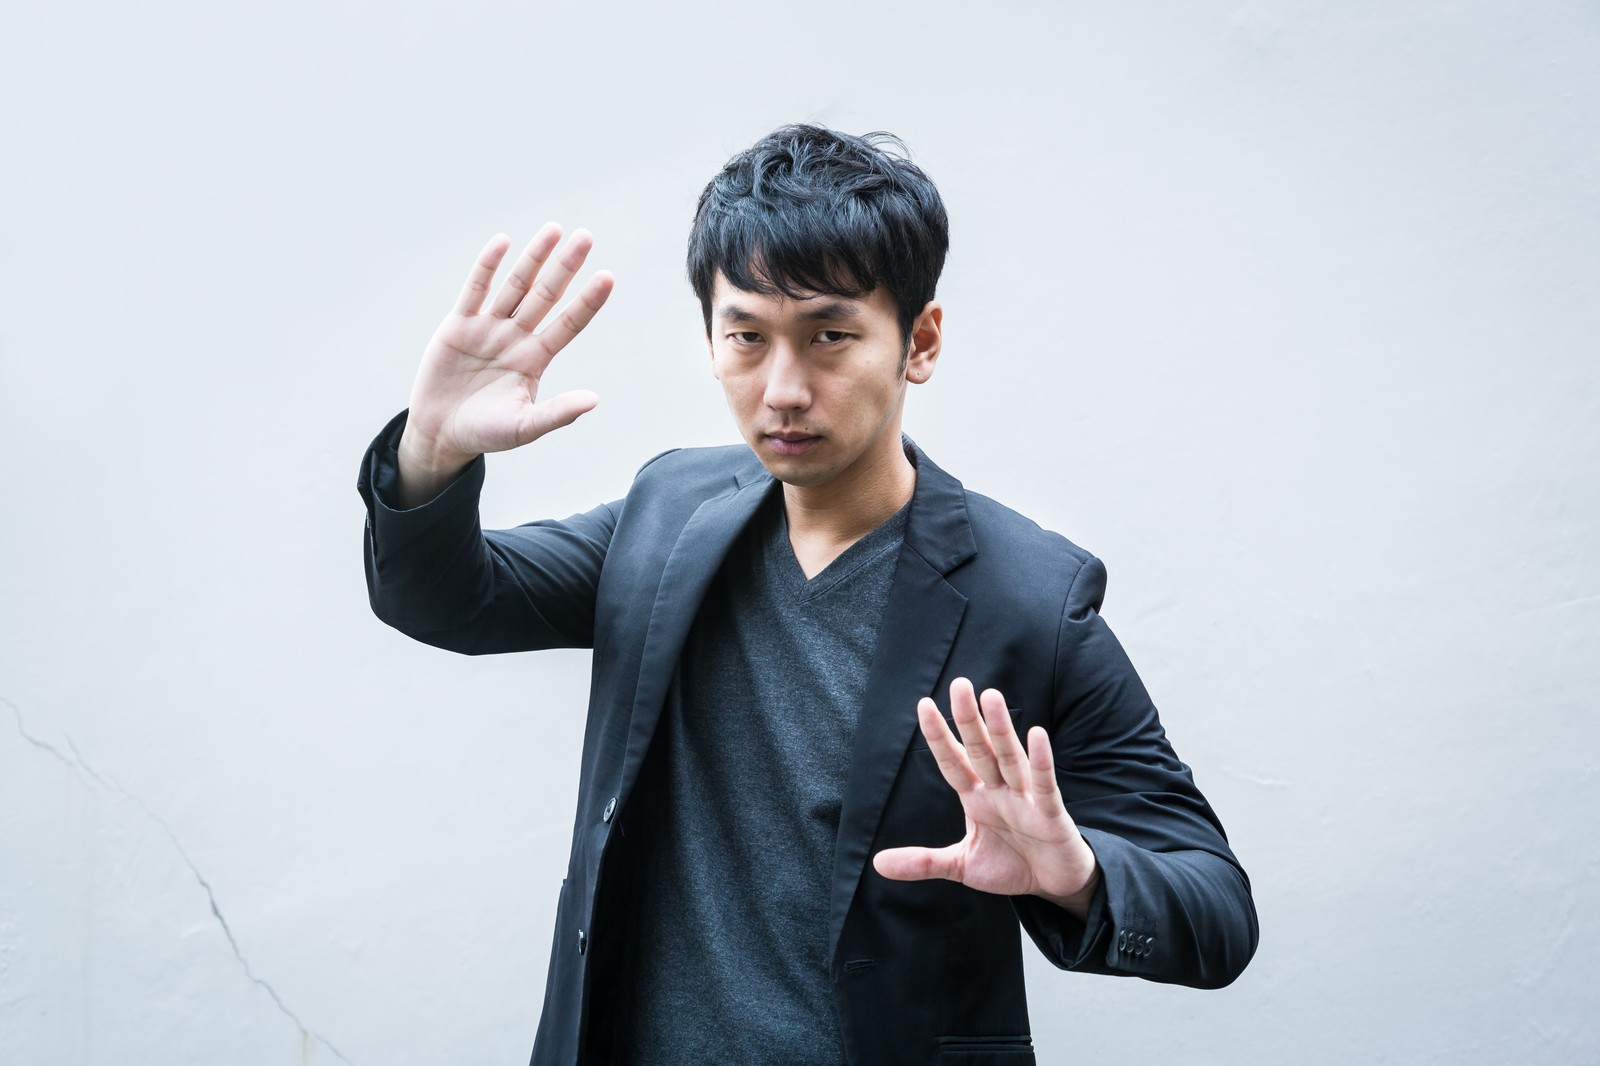face: (710, 244, 946, 482)
hand: (400, 220, 614, 466), (868, 675, 1096, 896)
